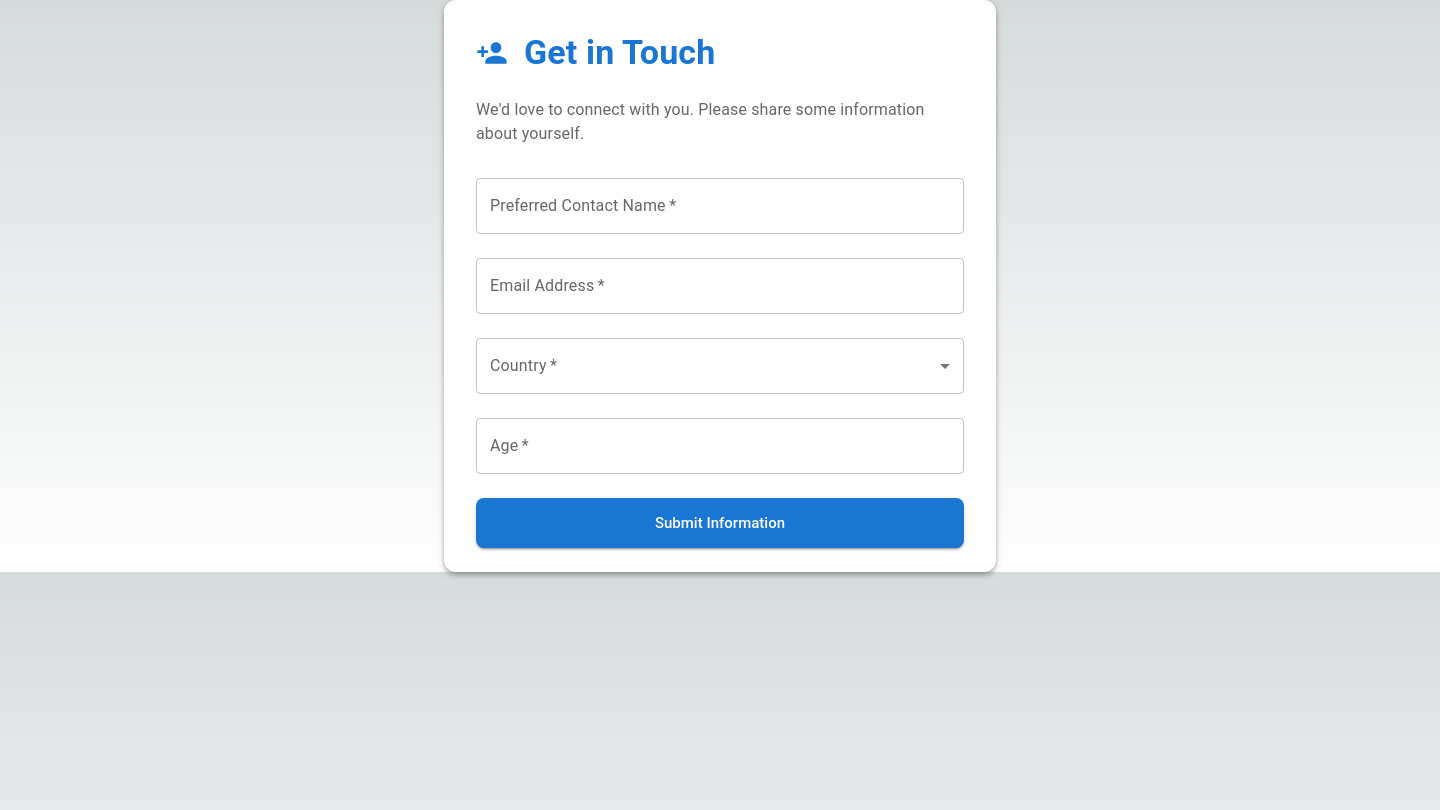
Scenario: VisitorForm › shows all country options in dropdown
Click the dropdown named "country": (720, 366) left=476, top=338, right=964, bottom=394
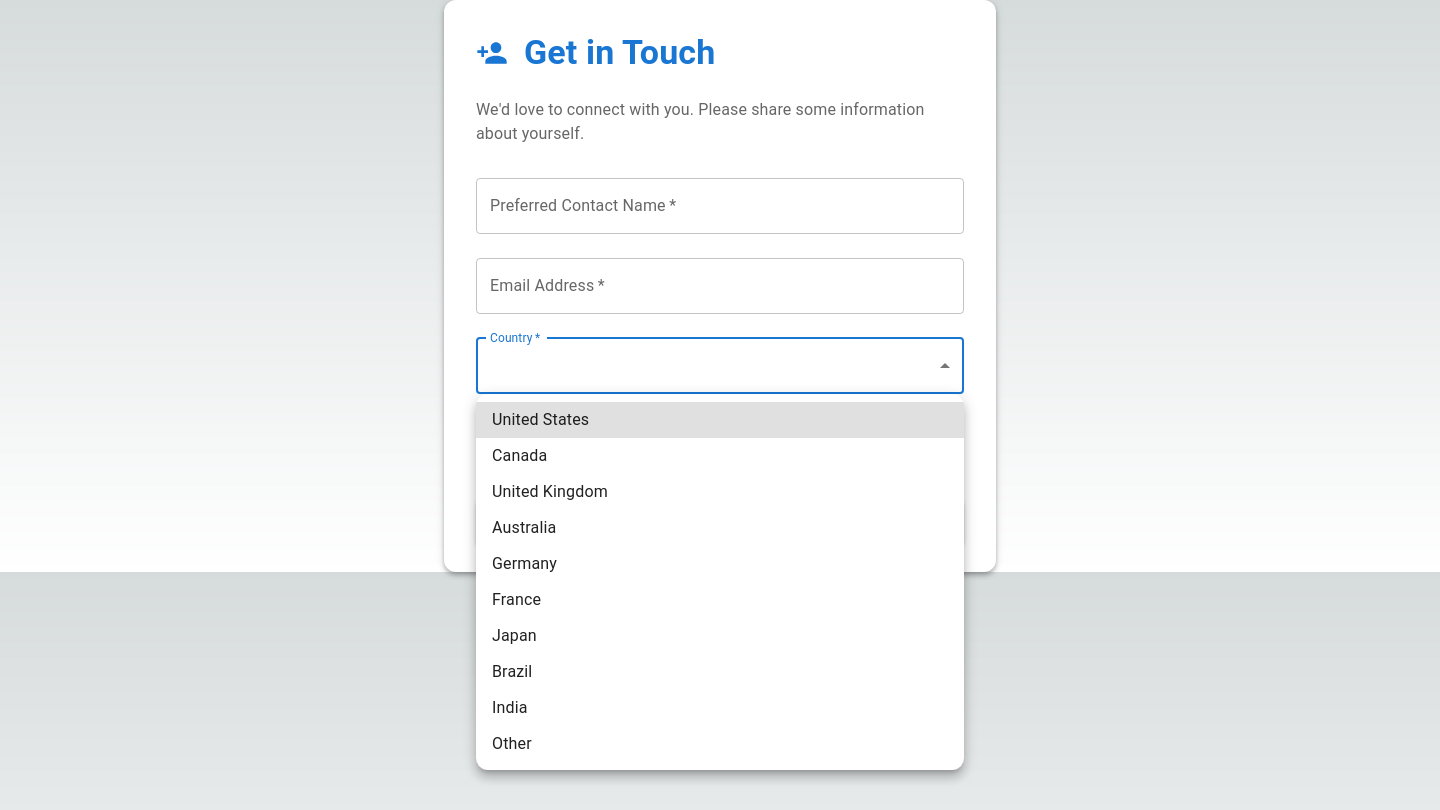
Result: the option "United States" is shown at left=476, top=402, right=964, bottom=438
Result: the option "Canada" is shown at left=492, top=446, right=547, bottom=465
Result: the option "United Kingdom" is shown at left=492, top=482, right=608, bottom=501
